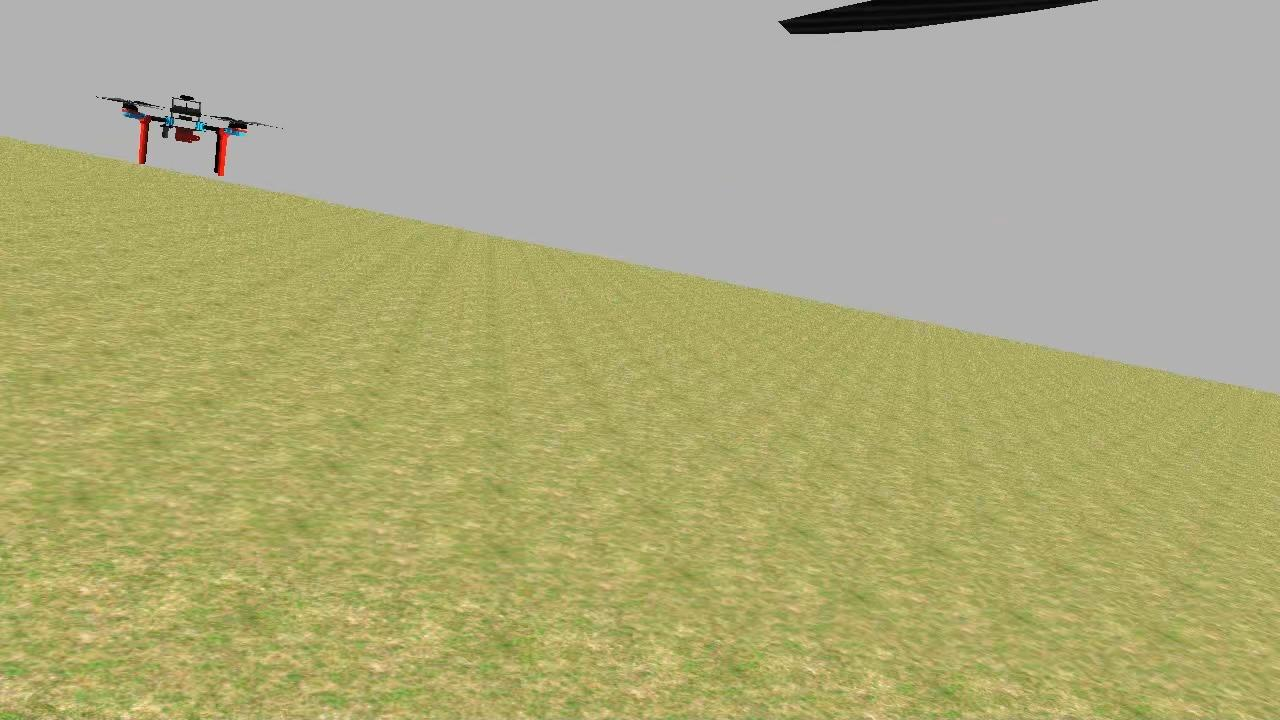UAV: (108, 77, 252, 186)
